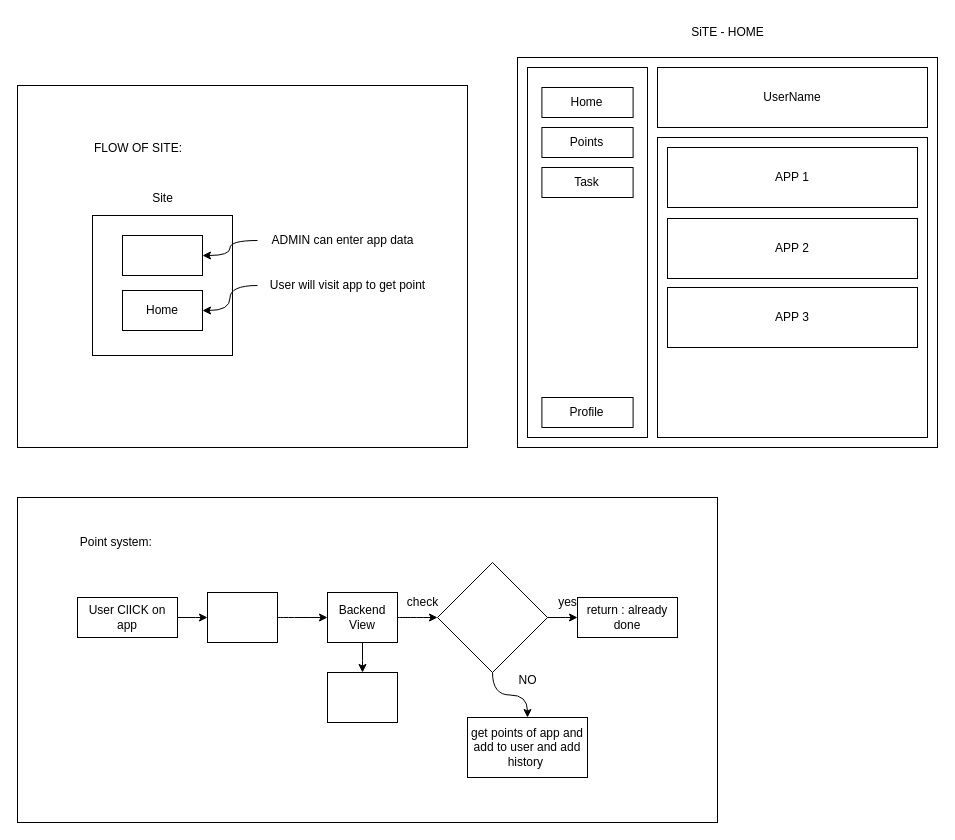
The diagram is 955 pixels wide and 840 high, and some of its shapes have lost their labels. The box of each missing label's shape, as (x1, y1, x2, y2) in pixels:
ADMIN: (122, 234, 202, 276)
already downloaded: (436, 562, 548, 672)
Download History: (326, 672, 398, 722)
Frontend: (206, 592, 278, 642)
